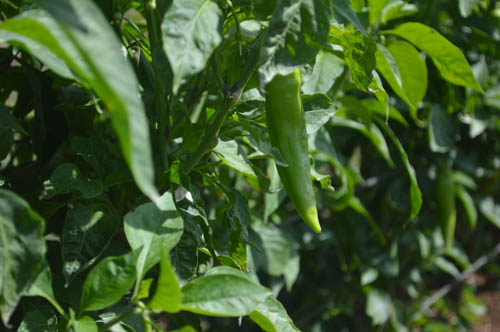ChiliPepper: (268, 70, 327, 235)
